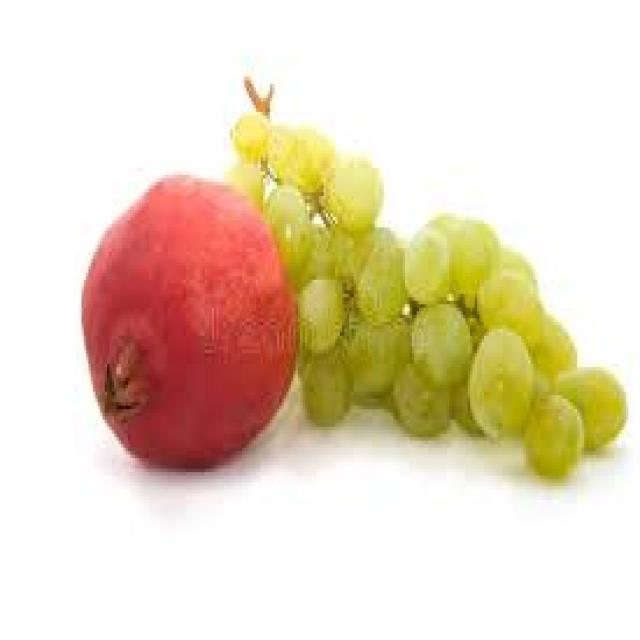grape: (288, 98, 636, 490)
pomegranate: (77, 164, 300, 479)
